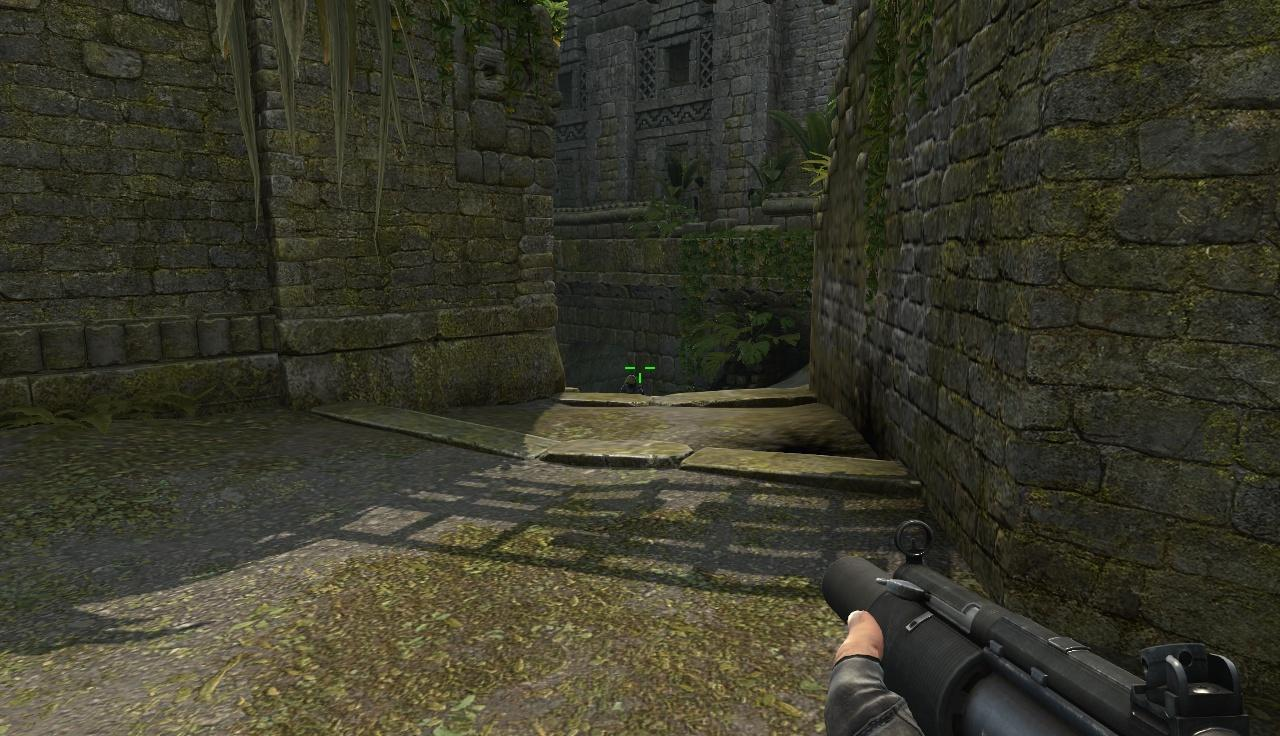cthead: (625, 375, 637, 387)
rifle: (829, 531, 1280, 736)
